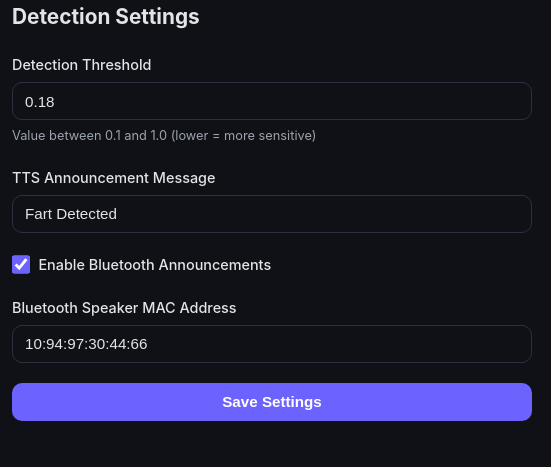
Test: SettingsForm component › edge case: shows error for out-of-range threshold
The width and height of the screenshot is (551, 467).
Replace the text in the field labelled "Detection Threshold" with "5.0" at (272, 101), box 12,82 -> 532,120
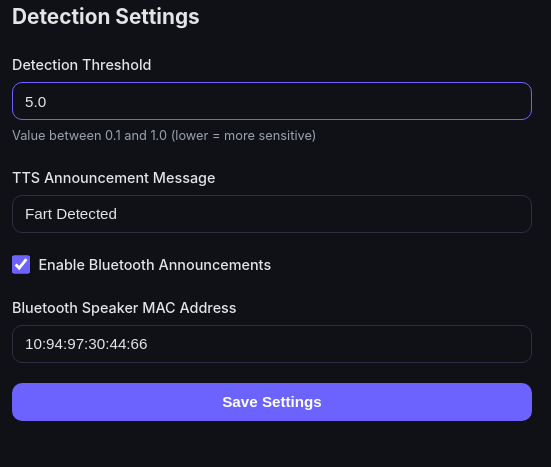
Click the button "Save Settings" at (272, 402), box 12,383 -> 532,421
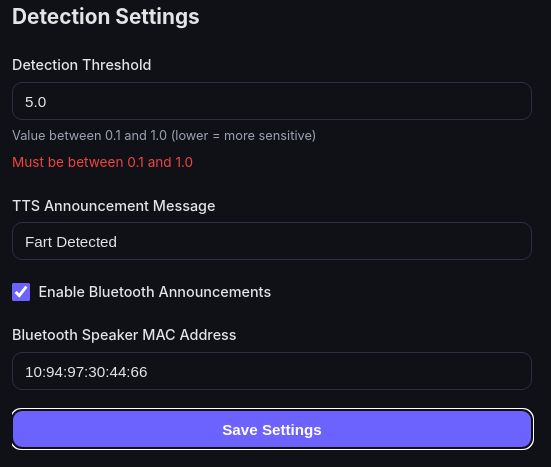
Check: the text "Must be between 0.1 and 1.0" is shown, box 12,154 -> 193,170
